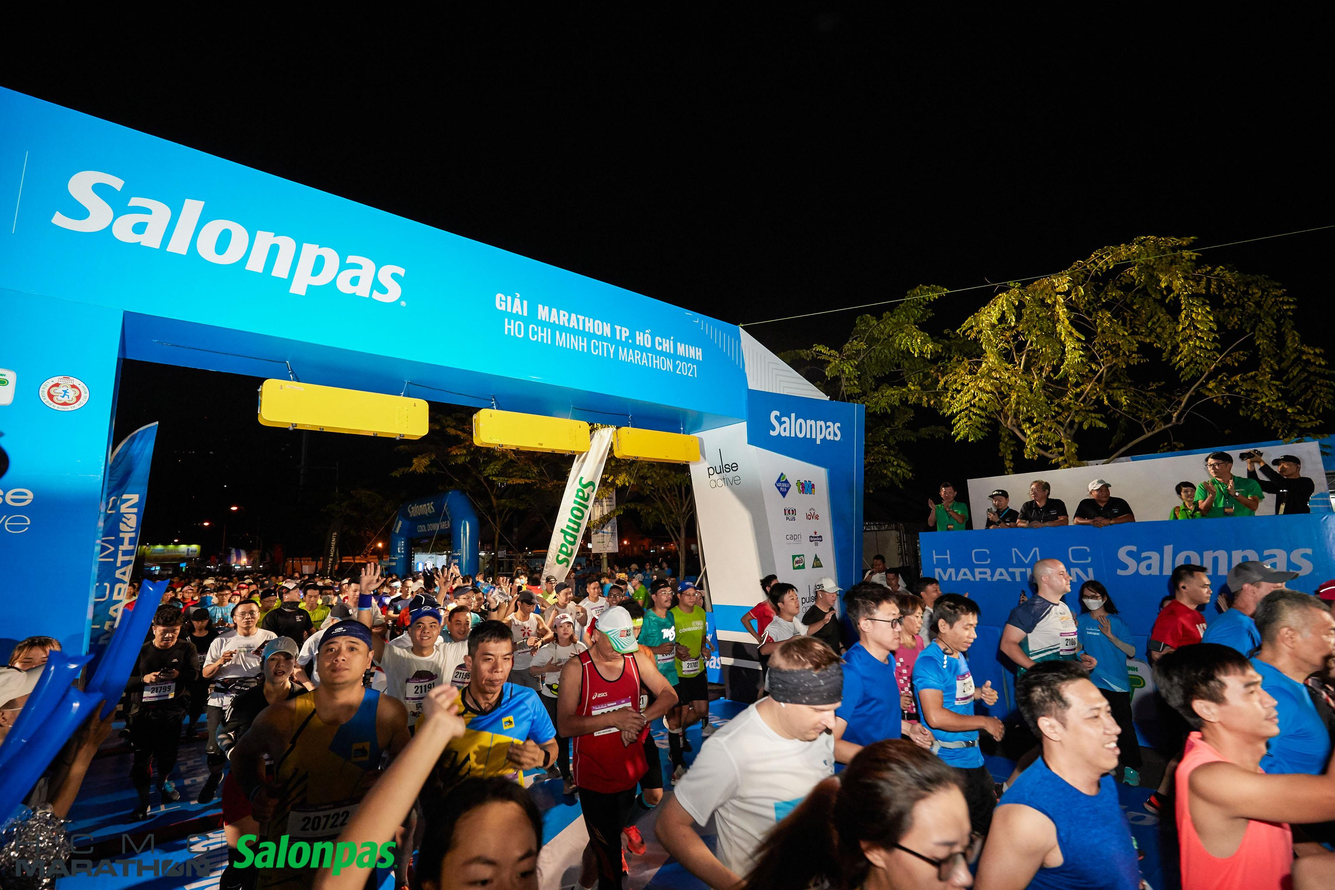bib: (289, 802, 357, 842), (406, 677, 438, 703), (142, 683, 176, 702), (957, 671, 976, 703), (1062, 631, 1078, 656), (657, 645, 677, 664), (454, 666, 470, 689), (681, 658, 701, 674), (590, 605, 604, 615)
